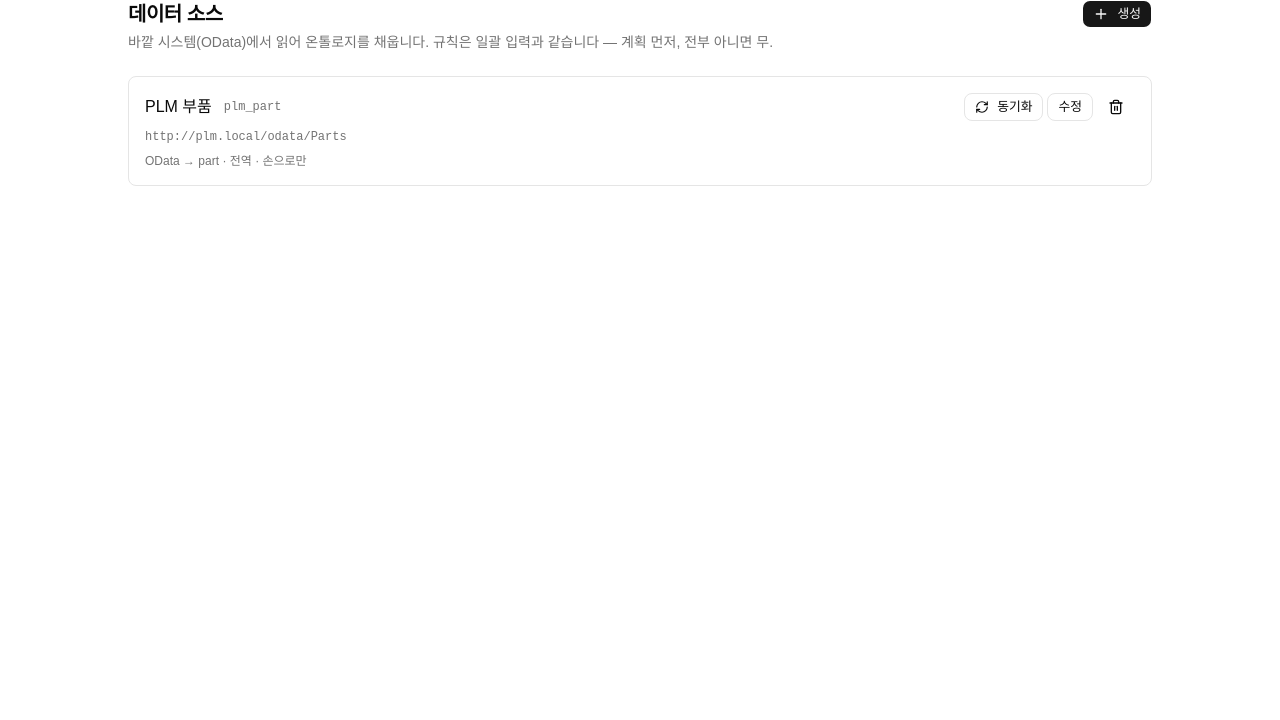
Test: 최근 동기화 › 안내뿐인 계획은 적용할 수 있고, 아직 안 끝난 적용은 「실패」 가 아니라 「적용 중」 이다
Click the button "PLM 부품". click: [178, 107]
box: x1=145 y1=95 x2=212 y2=119
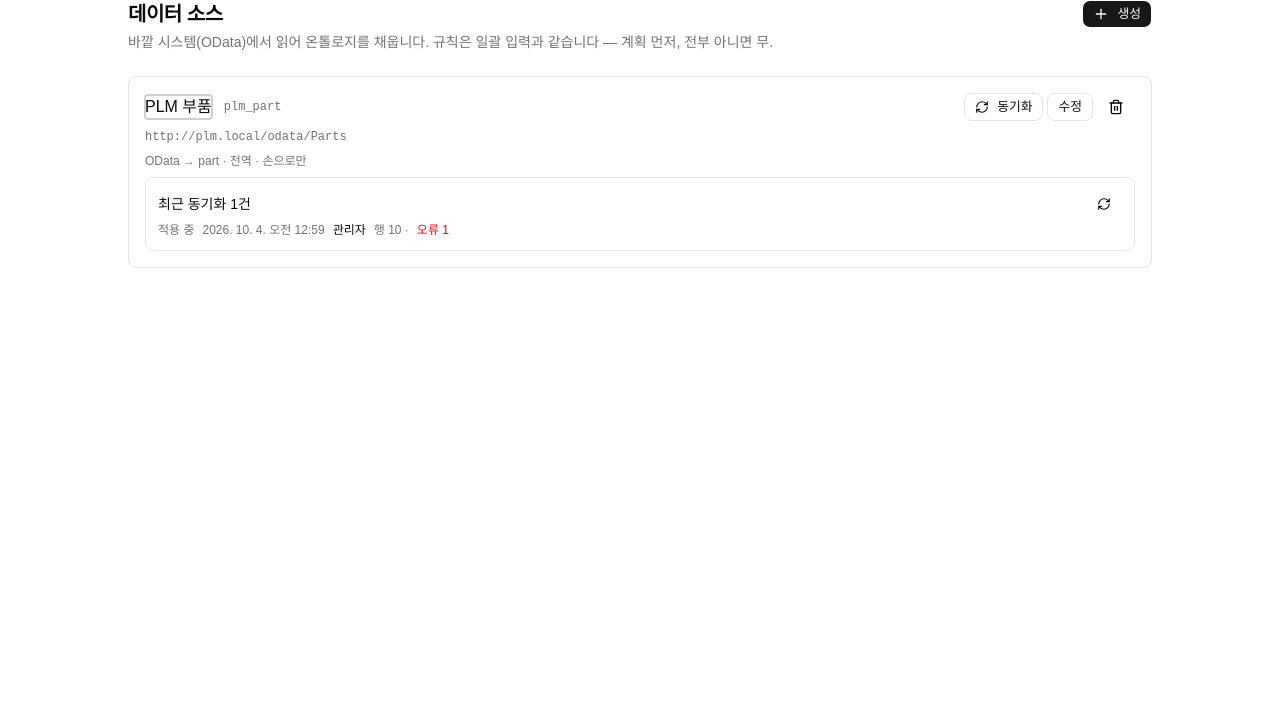
Result: the text "적용 중" is shown at x1=158 y1=222 x2=194 y2=238
Click the button "동기화". click: [1004, 107]
box: x1=964 y1=93 x2=1043 y2=121
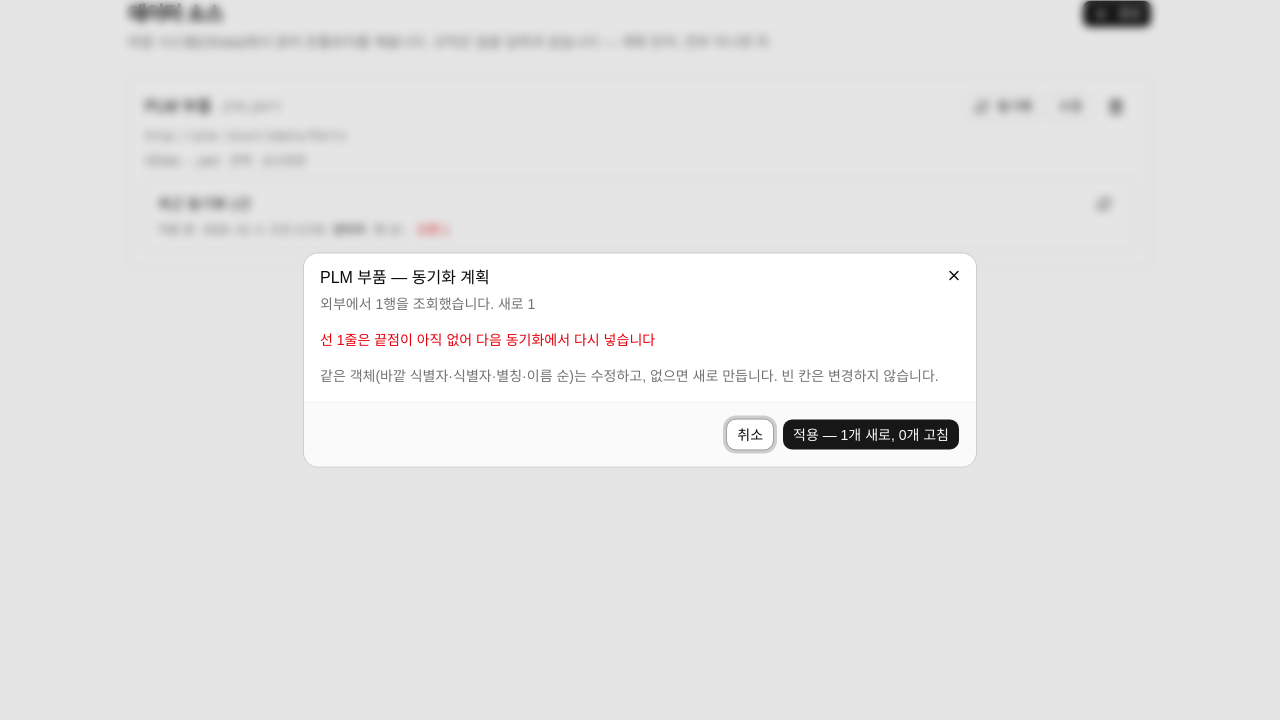
Result: the button "적용 — 1개 새로, 0개 고침" is enabled at x1=782 y1=418 x2=960 y2=450
